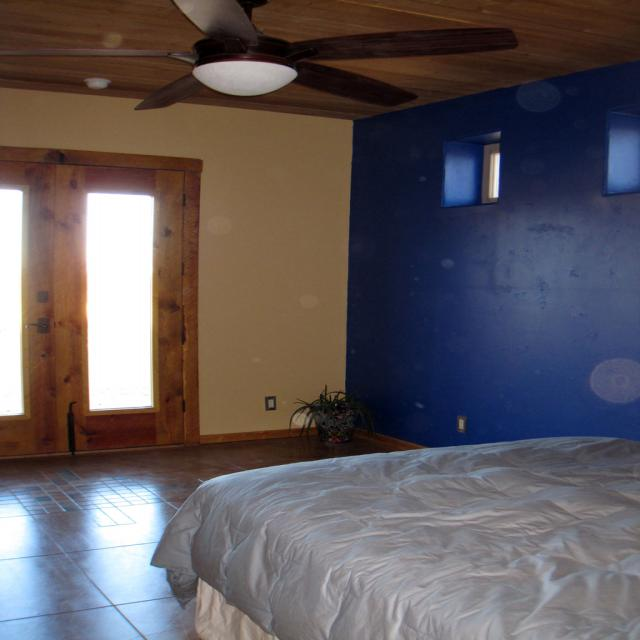Bulb: (0, 0, 517, 109)
